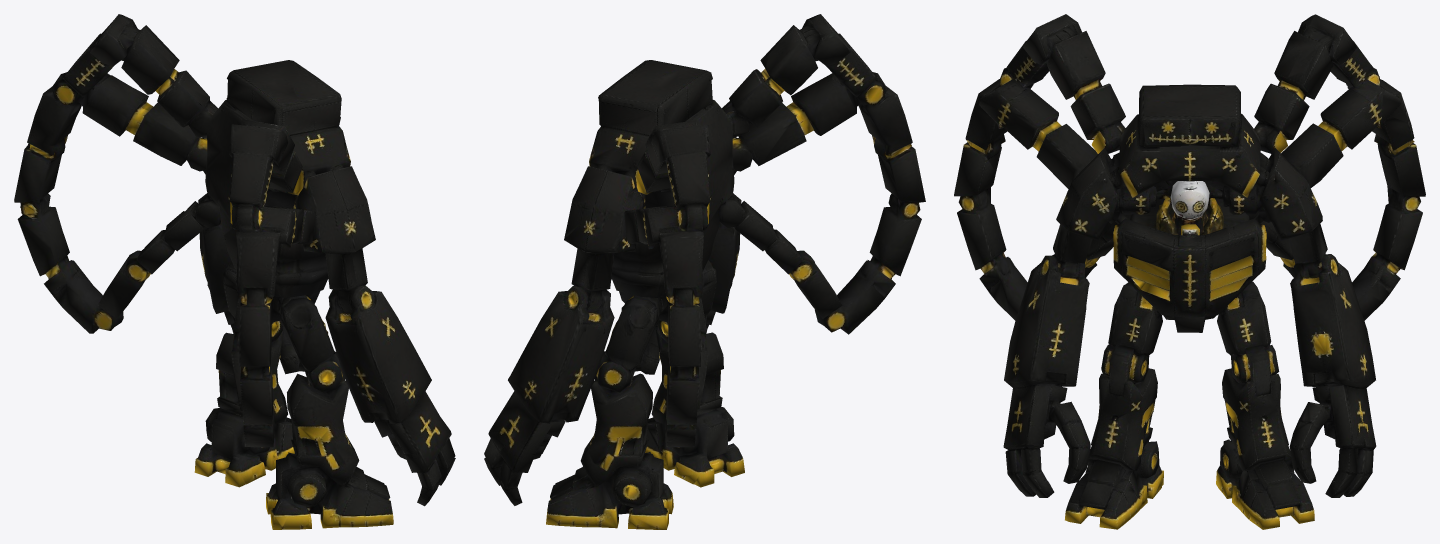
The model's file is Smiler-Mech.glb.
3 views of the same model, side by side, from view 1: azimuth 30°, elevation 25°; view 2: azimuth 150°, elevation 25°; view 3: azimuth 270°, elevation 25° (orthographic). The views are drawn at different scales.
Visible parts, largest first — view 1: tripo_node_8f23b76e-832c-4b5d-9070-912800523ace; view 2: tripo_node_8f23b76e-832c-4b5d-9070-912800523ace; view 3: tripo_node_8f23b76e-832c-4b5d-9070-912800523ace.
Boxes of the visible parts, x1=… form: tripo_node_8f23b76e-832c-4b5d-9070-912800523ace: x1=14, y1=14, x2=455, y2=529; tripo_node_8f23b76e-832c-4b5d-9070-912800523ace: x1=484, y1=14, x2=925, y2=529; tripo_node_8f23b76e-832c-4b5d-9070-912800523ace: x1=954, y1=14, x2=1425, y2=529.
Size of the model in its own units: 0.5809 by 0.9791 by 0.9725.
Materials: 1 (1 with a texture image).
